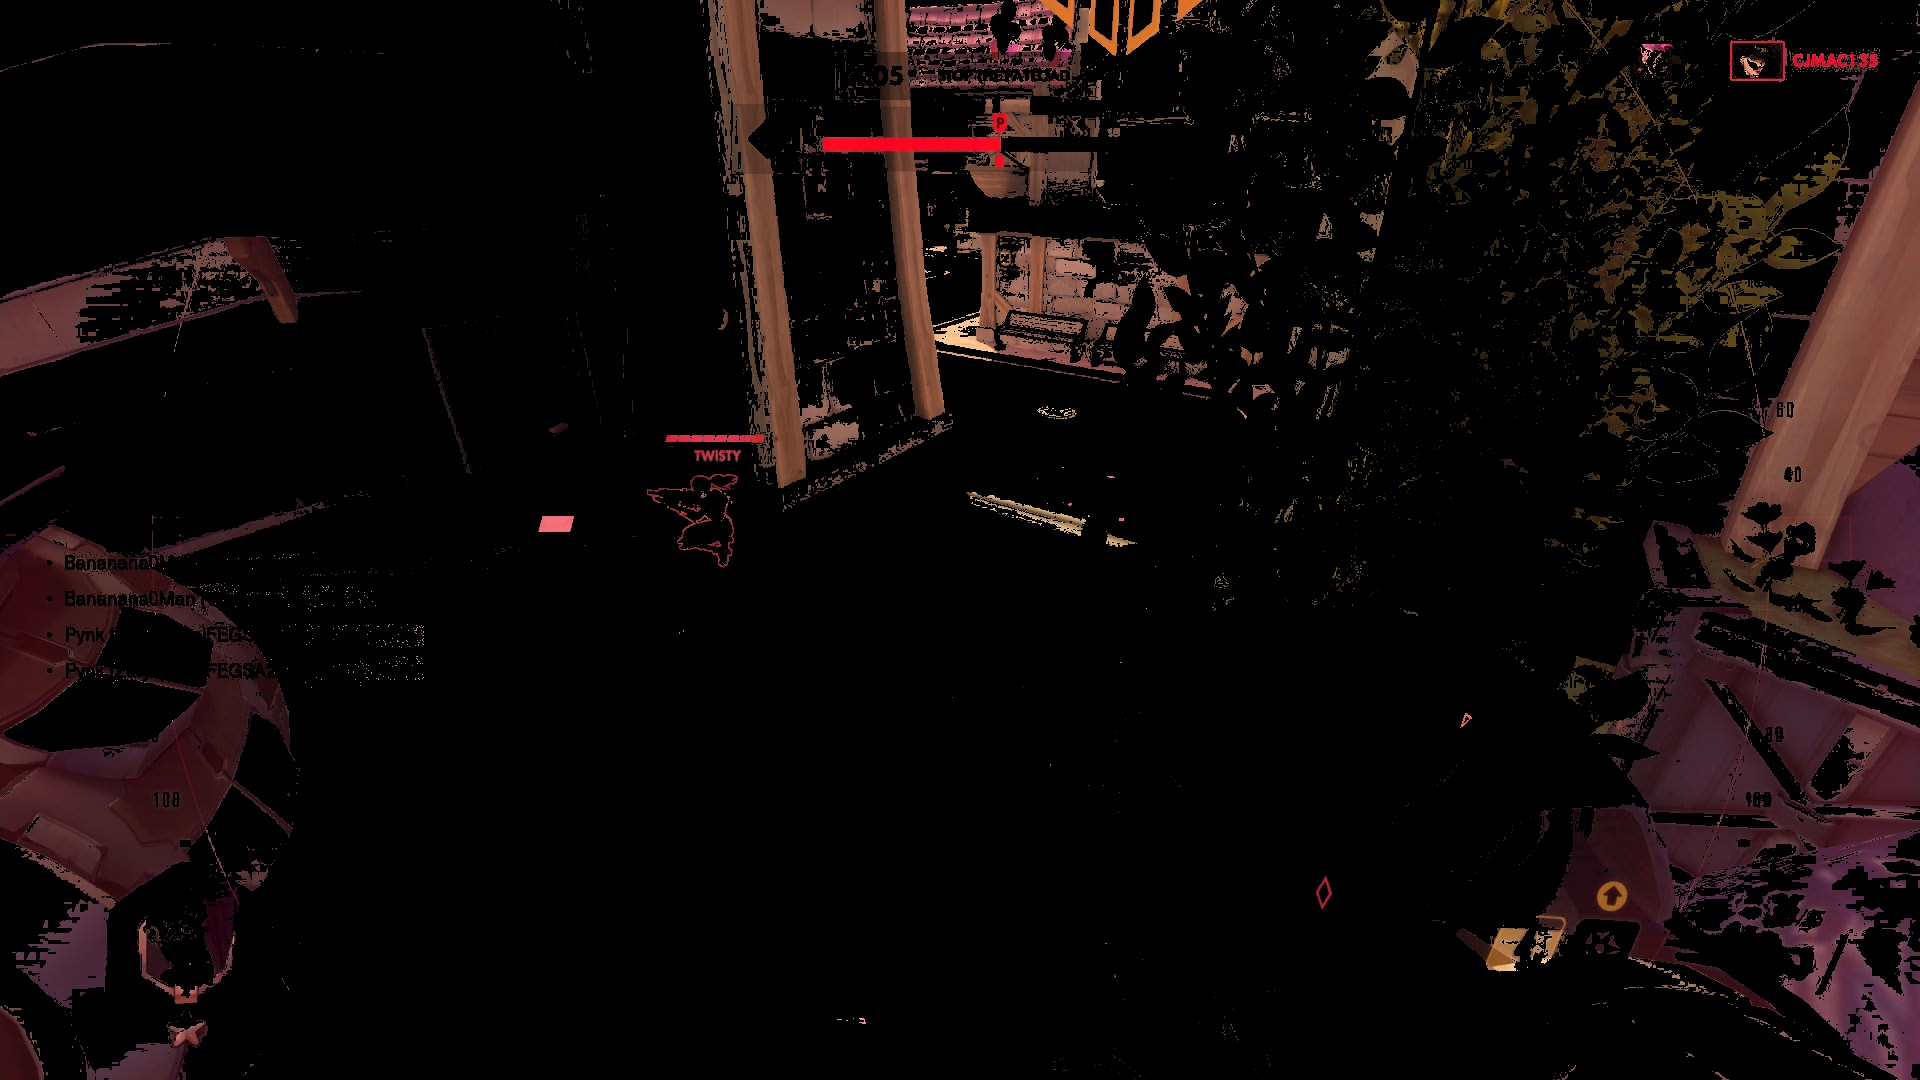widowmaker: (647, 472, 742, 570)
